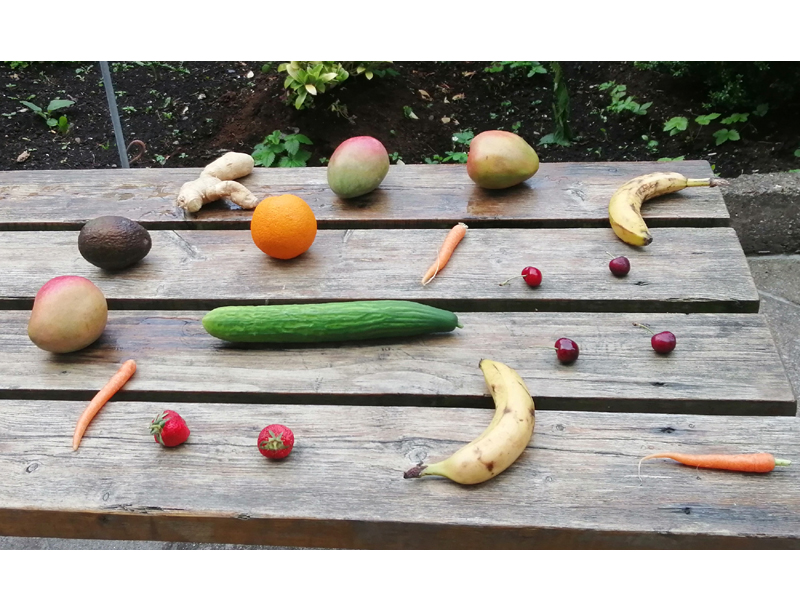avocado: (76, 212, 164, 281)
banana: (405, 351, 547, 494), (599, 158, 730, 249)
carrot: (632, 442, 793, 493), (67, 361, 142, 453), (420, 215, 480, 288)
cherry: (535, 323, 585, 369), (633, 318, 684, 359), (493, 264, 548, 298), (594, 250, 635, 276)
cucumber: (190, 294, 463, 355)
ginger: (177, 145, 256, 216)
mango: (17, 269, 111, 361), (449, 124, 542, 195)
orange: (252, 194, 323, 264)
strawberry: (145, 400, 192, 461), (253, 419, 308, 461)
